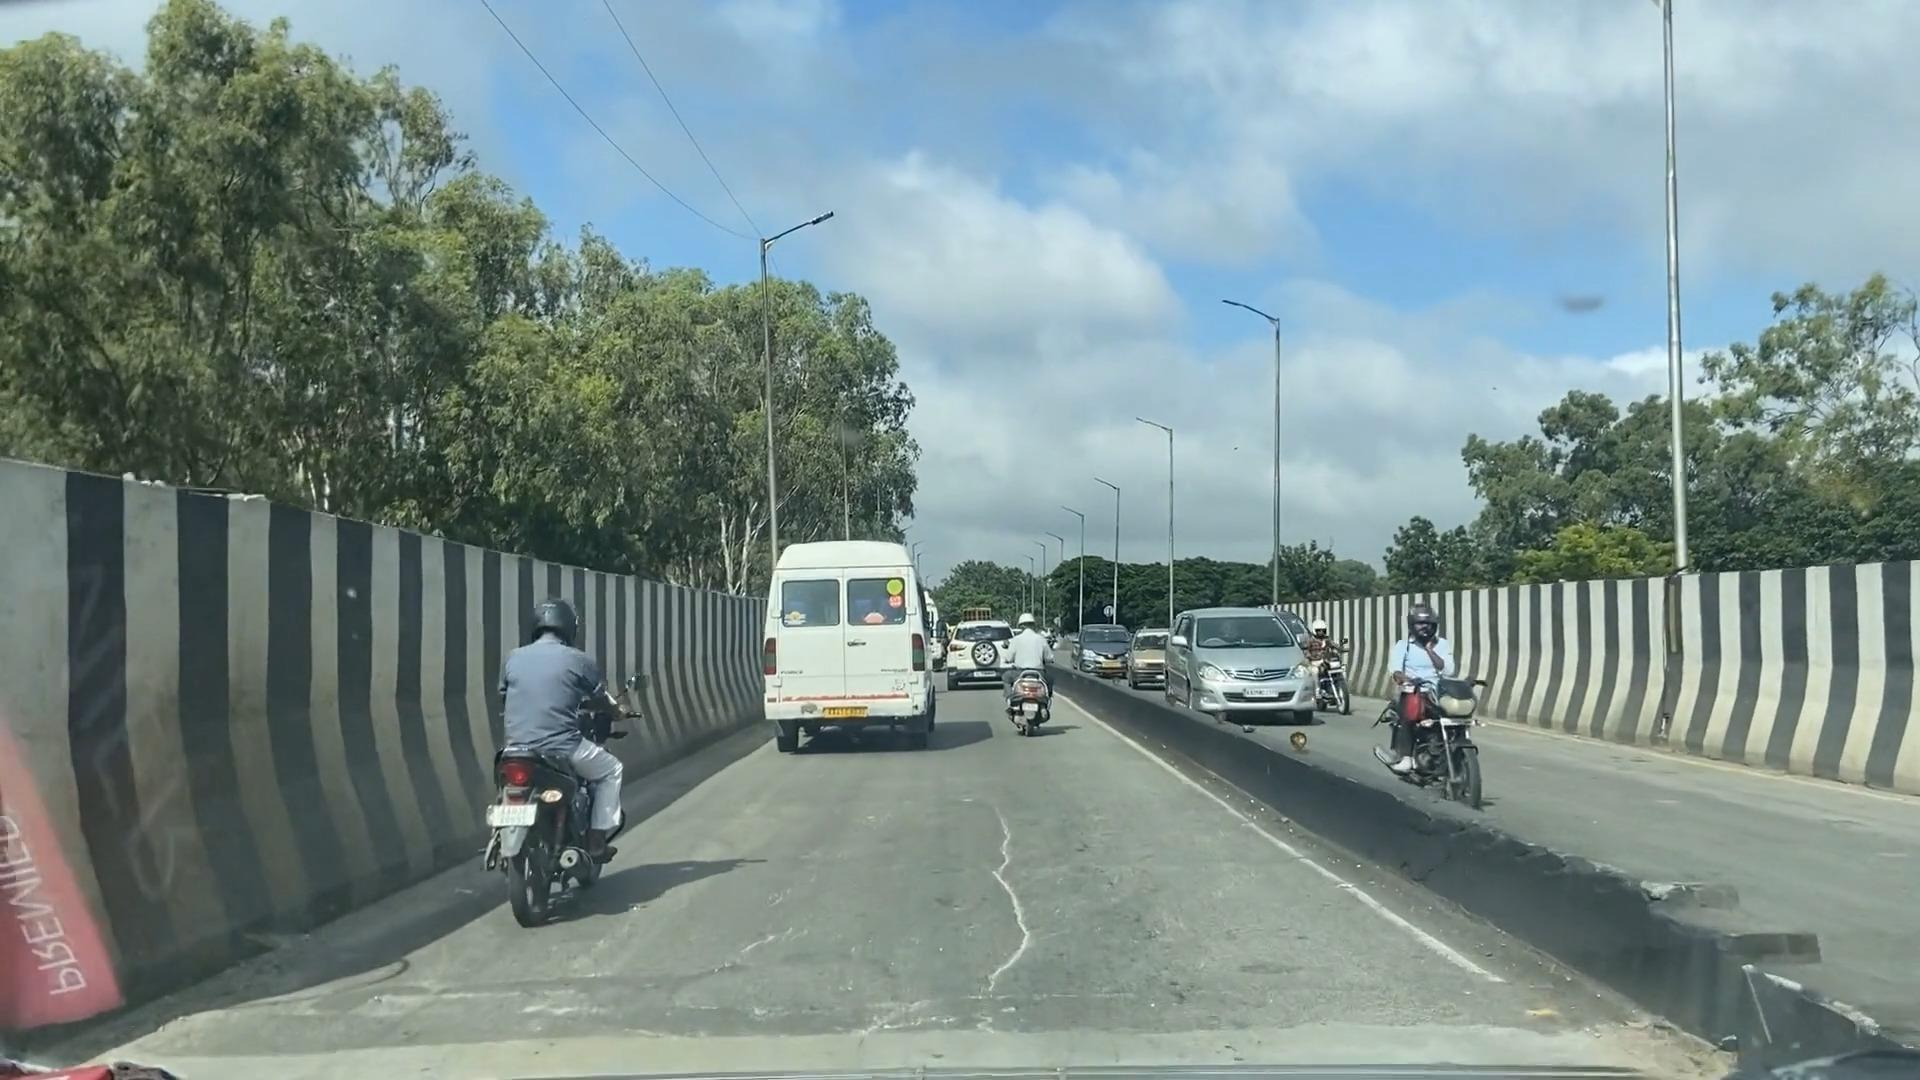HMV: (758, 543, 947, 762)
LMV: (485, 604, 613, 909), (1007, 621, 1054, 749)
RoadDamages: (980, 800, 1026, 990)
UnsurfacedRoad: (349, 980, 624, 1018)
